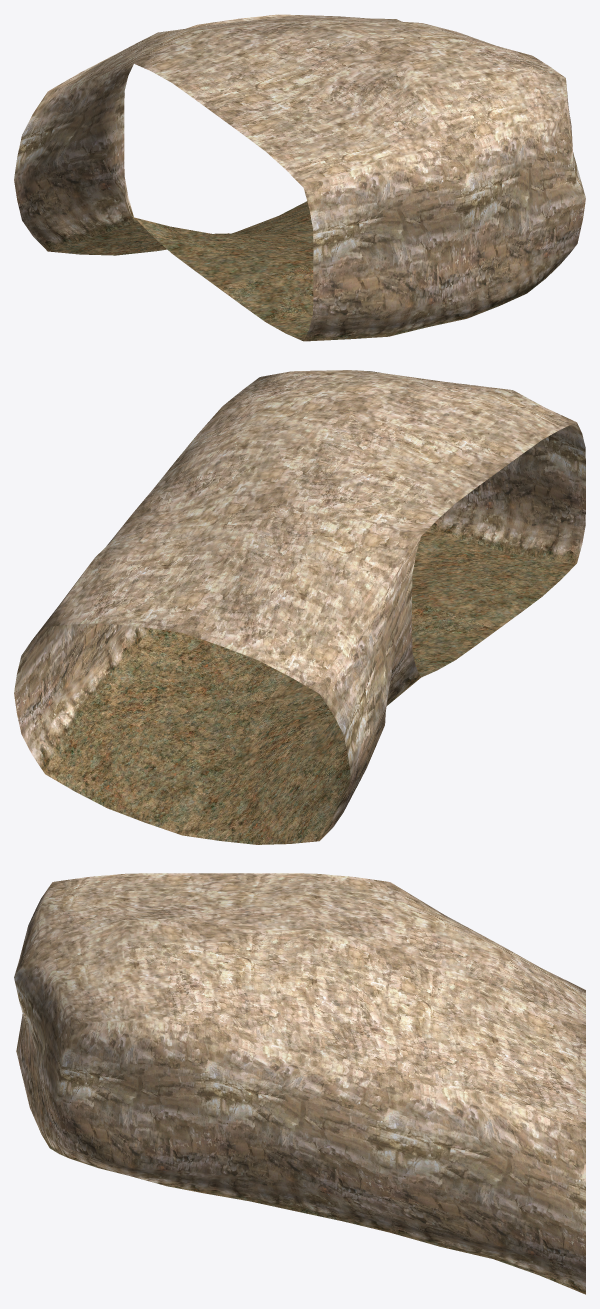
File: thm_all_cave_s03_mirror_r21_mesh_r21.fbx
The picture shows the model from 3 angles, top to bottom: view 1: azimuth 30°, elevation 25°; view 2: azimuth 150°, elevation 25°; view 3: azimuth 270°, elevation 25°; orthographic projection. The views are drawn at different scales.
Visible parts, largest first — view 1: mesh_node; view 2: mesh_node; view 3: mesh_node.
Boxes of the visible parts, x1=… form: mesh_node: x1=14, y1=14, x2=585, y2=341; mesh_node: x1=14, y1=370, x2=585, y2=844; mesh_node: x1=14, y1=873, x2=585, y2=1294.
Bounding box in the file's own units: 17.9 × 15.47 × 24.28.
